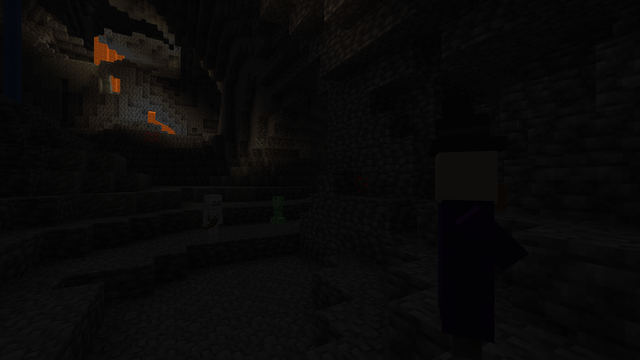creepers: (271, 195, 284, 225)
sorcieres: (417, 140, 512, 357)
squelettes: (204, 194, 221, 244)
